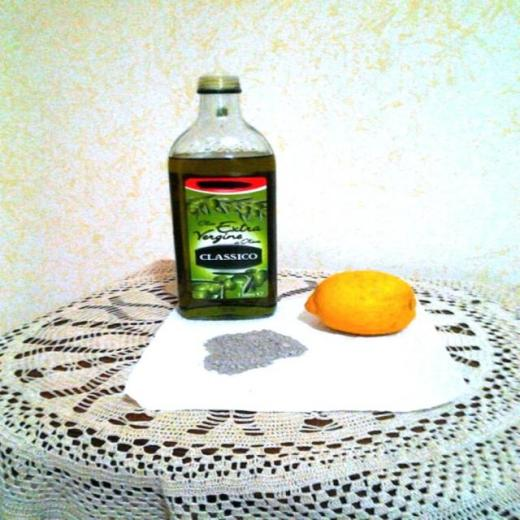Grape: (294, 267, 390, 329)
